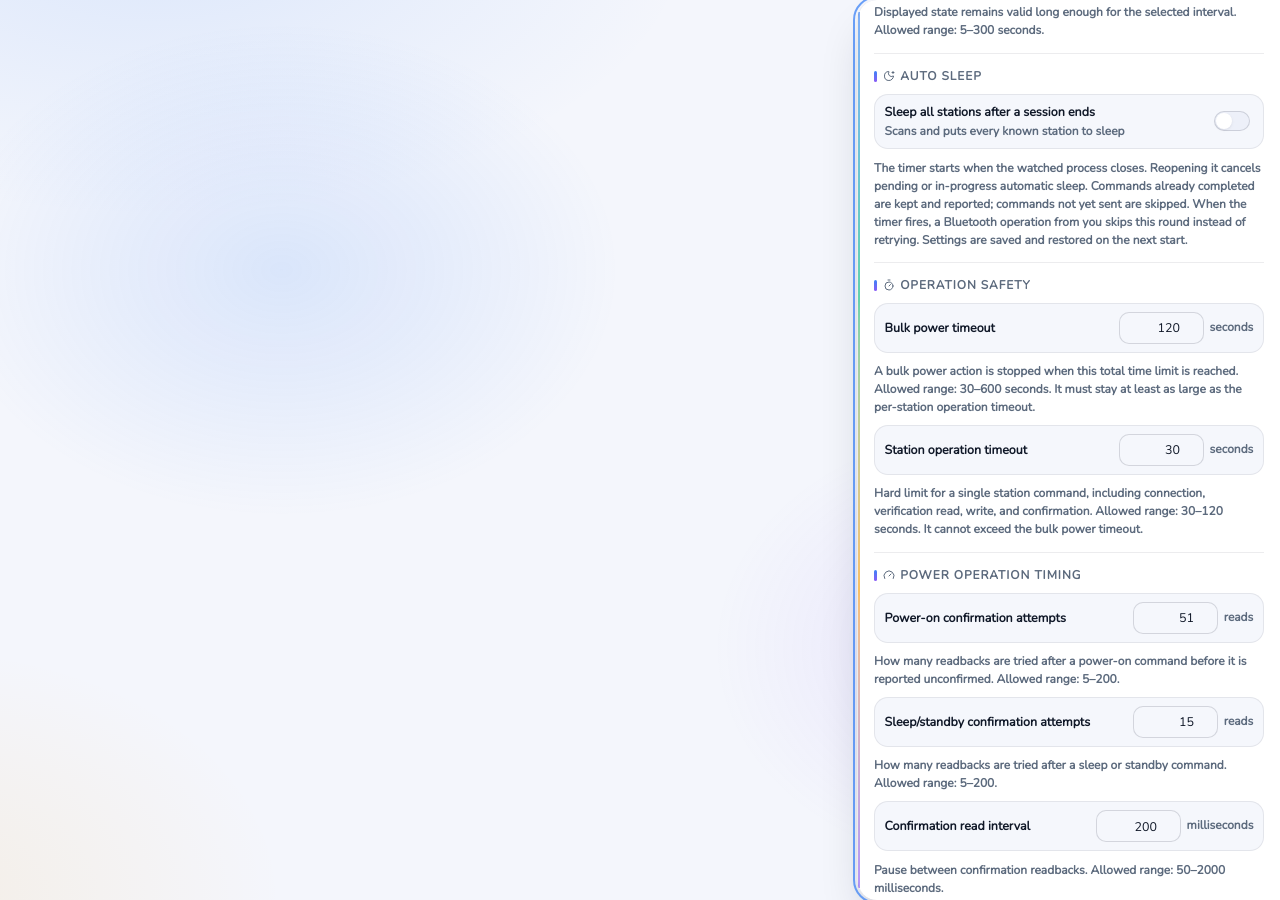
Test: SettingsDrawer › clamps and commits the station operation timeout in seconds
(page scrolled)
Step 1. Replace the text in the number field labelled "Station operation timeout" with "999" → (1161, 450), box x1=1119 y1=434 x2=1204 y2=466
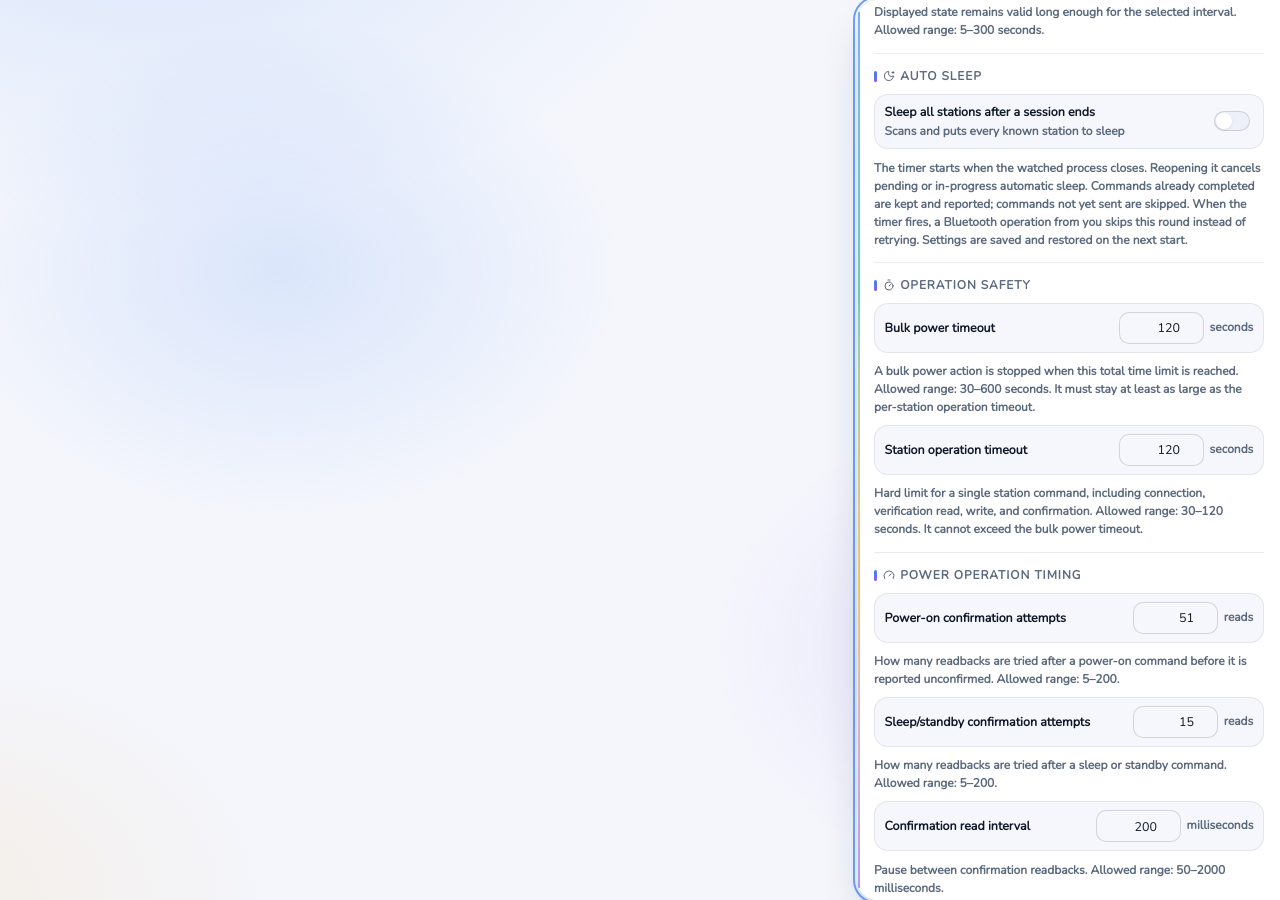
Expected: the number field labelled "Station operation timeout" holds "120", x1=1119 y1=434 x2=1204 y2=466
